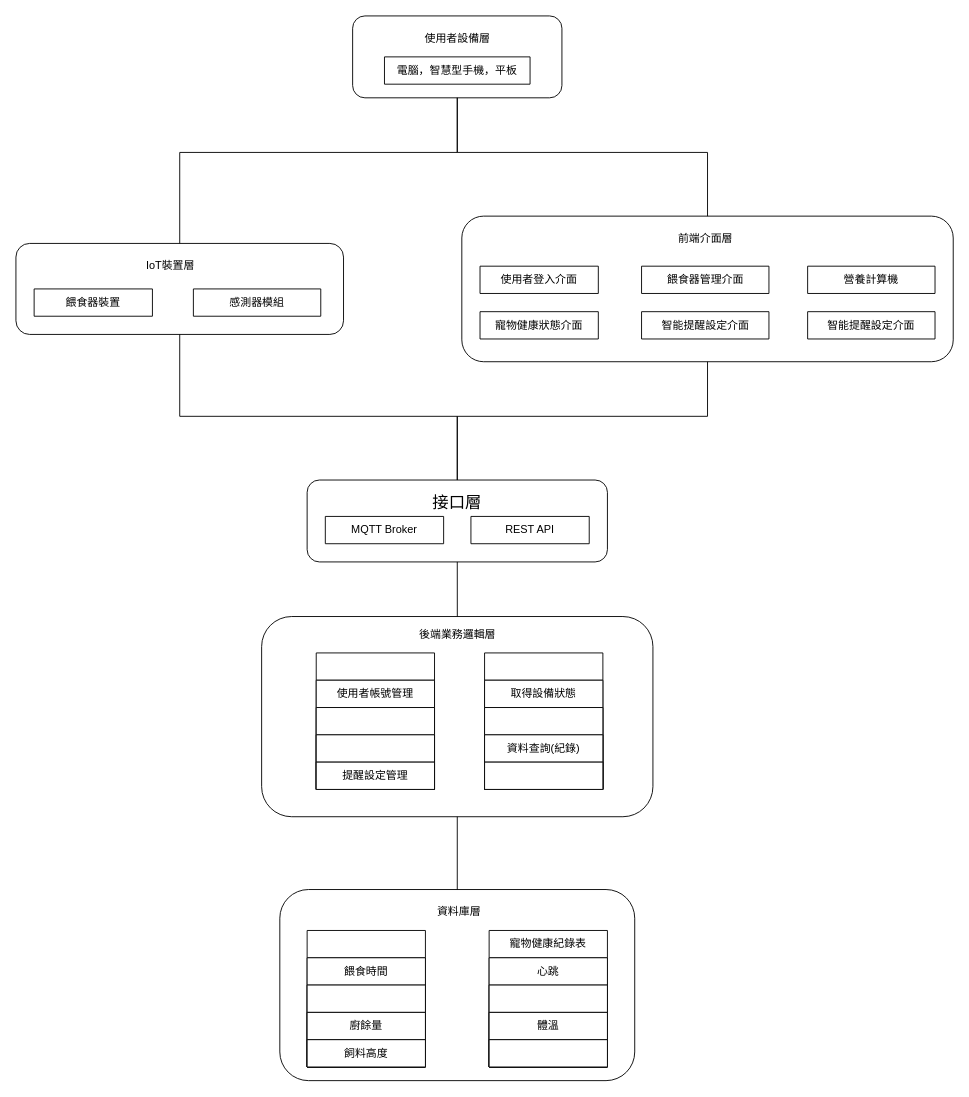
The diagram is 969 pixels wide and 1097 high, and some of its shapes have lost their labels. The shapes that lost their labels are listed below. From the top down, each one's box as (x1, y1, x2, y2) in pixels, then its label:
(315, 652, 435, 789): 管理模組
(484, 652, 603, 789): 服務模組
(315, 707, 435, 789): 設備綁定與狀態管理
(315, 734, 435, 789): 寵物資料管理
(484, 707, 603, 789): 設備控制服務
(484, 761, 603, 789): 智慧提醒邏輯處裡
(306, 930, 425, 1067): 餵食紀錄表
(306, 984, 425, 1067): 餵食量
(488, 984, 607, 1067): 血氧
(488, 1039, 607, 1067): 步數
